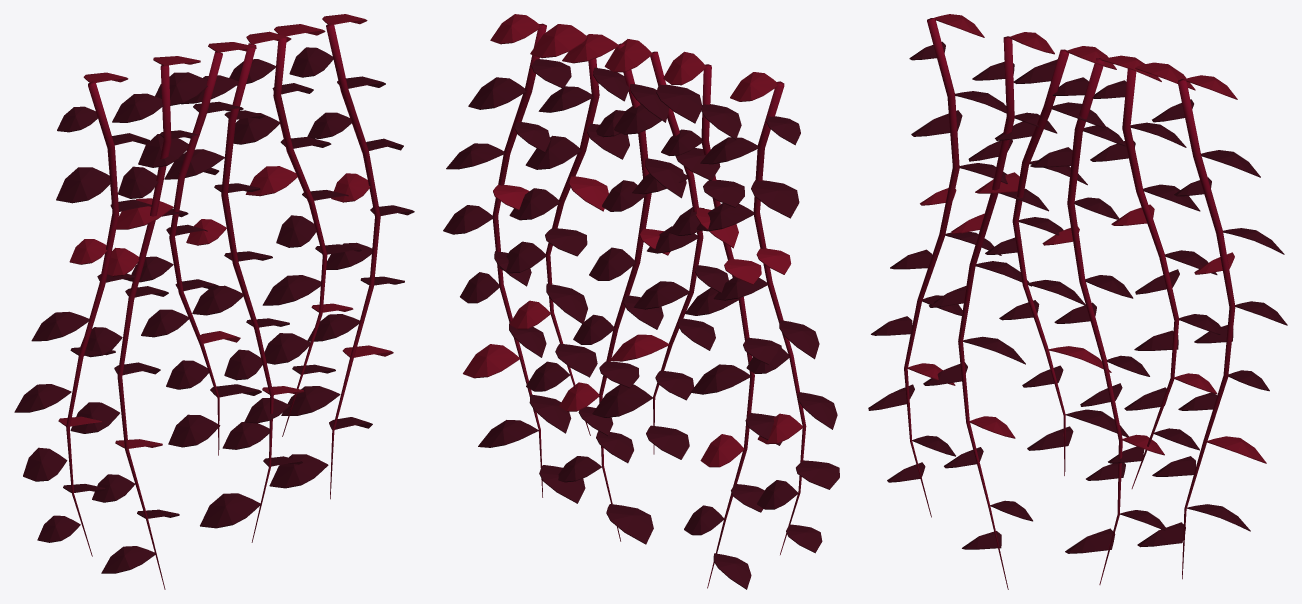
Rendered from SM_RV_Ivy.fbx.
3 renders of one model, left to right at view 1: azimuth 30°, elevation 25°; view 2: azimuth 150°, elevation 25°; view 3: azimuth 330°, elevation 25°, orthographic. The views are drawn at different scales.
Parts seen in each view (by area): view 1: SM_RV_Ivy; view 2: SM_RV_Ivy; view 3: SM_RV_Ivy.
Part boxes in pixels (x1,y1,x2,y2): SM_RV_Ivy: (14, 14, 414, 589); SM_RV_Ivy: (443, 14, 839, 589); SM_RV_Ivy: (868, 14, 1287, 589).
Bounding box in the file's own units: 29.83 × 240 × 308.
